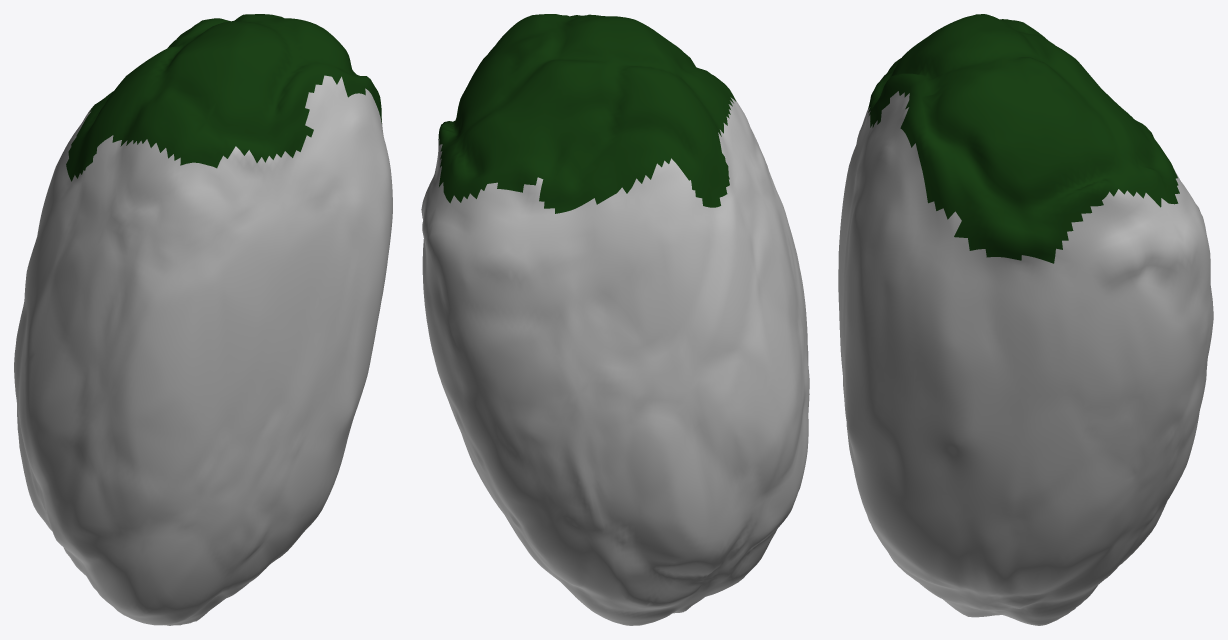
File: hubrock_1.fbx
The picture shows the model from 3 angles, left to right: view 1: azimuth 30°, elevation 25°; view 2: azimuth 150°, elevation 25°; view 3: azimuth 270°, elevation 25°; orthographic projection. The views are drawn at different scales.
Visible parts, largest first — view 1: Icosphere; view 2: Icosphere; view 3: Icosphere.
Boxes of the visible parts, bbox=[...] form: Icosphere: bbox=[14, 14, 392, 625]; Icosphere: bbox=[421, 14, 809, 625]; Icosphere: bbox=[838, 14, 1213, 625].
Bounding box in the file's own units: 217 × 358 × 197.
